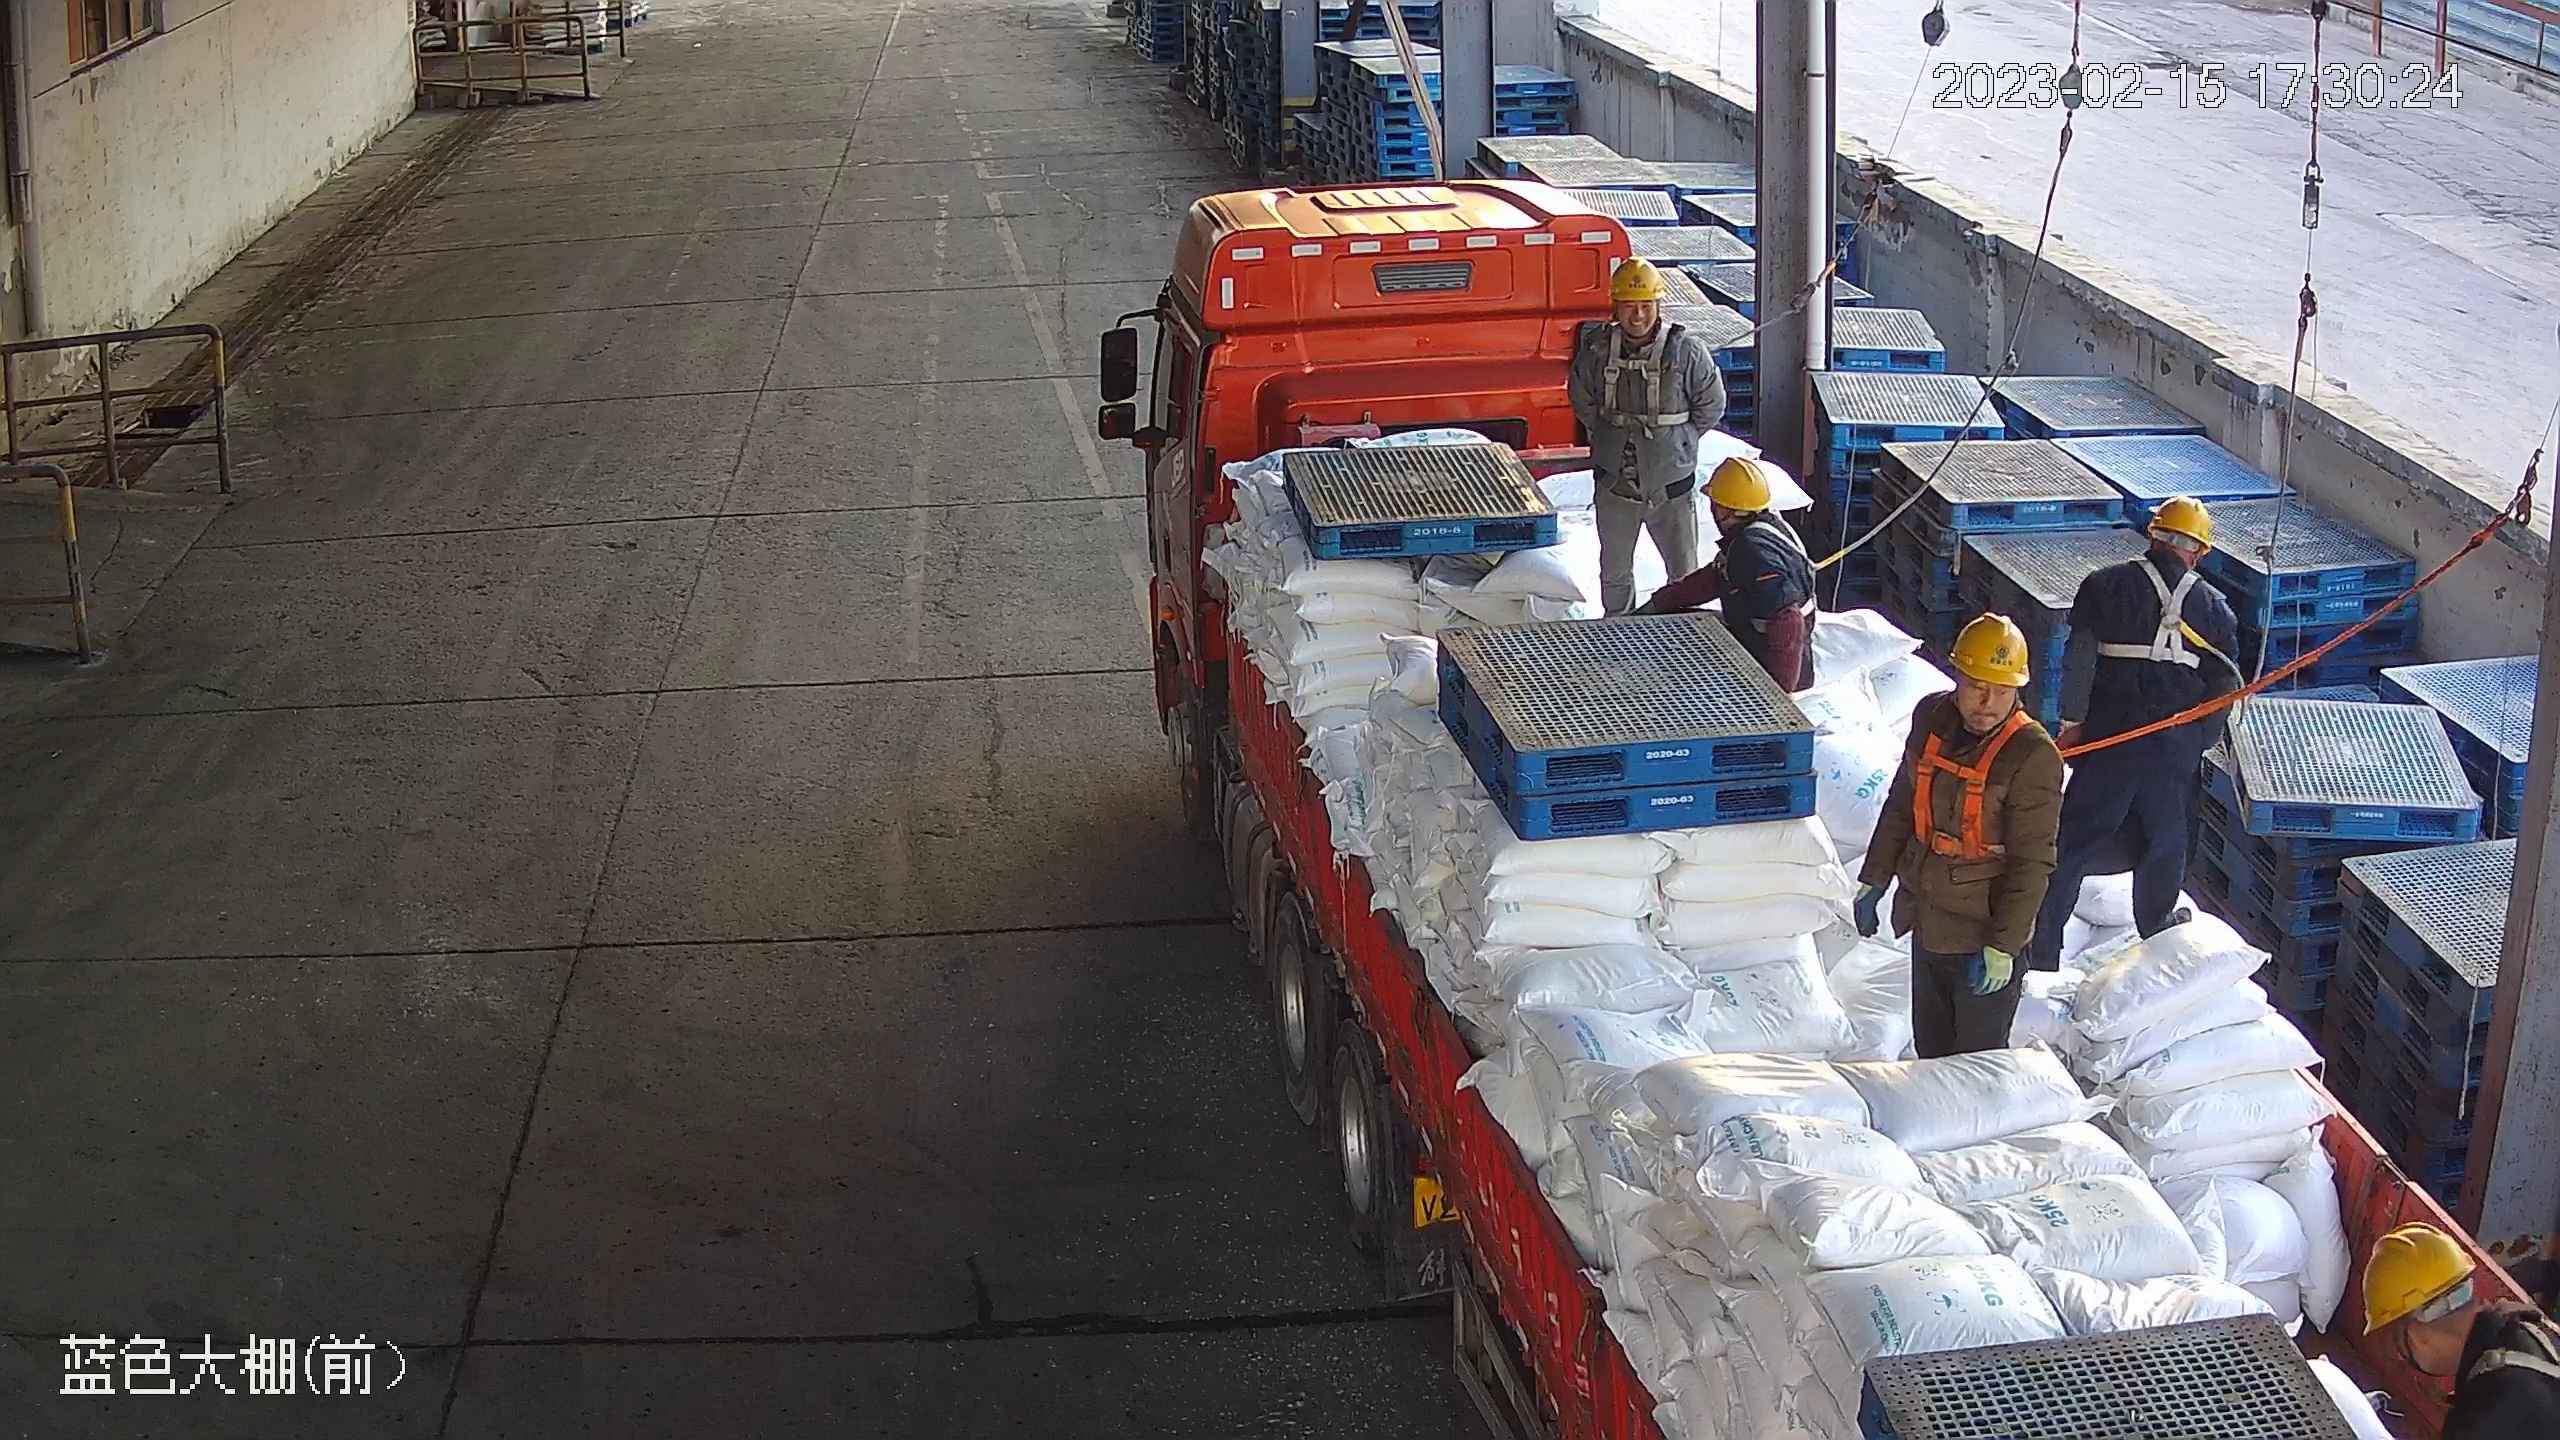belt: (1908, 693, 2086, 864), (2095, 553, 2244, 676), (1718, 511, 1854, 634), (1592, 320, 1735, 431)
head: (1903, 610, 2066, 776), (2080, 495, 2241, 630), (1578, 256, 1713, 361), (1699, 455, 1810, 553)
helmet: (1944, 610, 2031, 689), (2145, 494, 2213, 557), (1699, 456, 1772, 512), (1609, 256, 1667, 303)
people: (2023, 495, 2247, 975), (1852, 611, 2066, 1063), (1565, 257, 1729, 619), (1632, 456, 1820, 693)
truck: (1136, 173, 2560, 1440)
